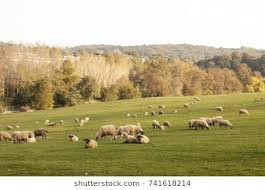sheep: (94, 124, 116, 141), (13, 129, 33, 142), (119, 132, 137, 145), (193, 118, 211, 131), (33, 127, 49, 140), (117, 124, 135, 134), (81, 138, 98, 148), (218, 118, 233, 129), (151, 119, 164, 131), (133, 133, 149, 142), (133, 125, 146, 135), (67, 133, 80, 142), (238, 107, 250, 116), (1, 130, 10, 141), (161, 120, 173, 128), (214, 105, 225, 112), (187, 119, 194, 129), (47, 121, 57, 127), (78, 118, 84, 126), (183, 103, 190, 109), (157, 109, 164, 115), (83, 116, 89, 122), (150, 110, 156, 116), (143, 110, 148, 116), (74, 116, 78, 123), (147, 105, 153, 109), (130, 114, 136, 118), (195, 98, 201, 102)
